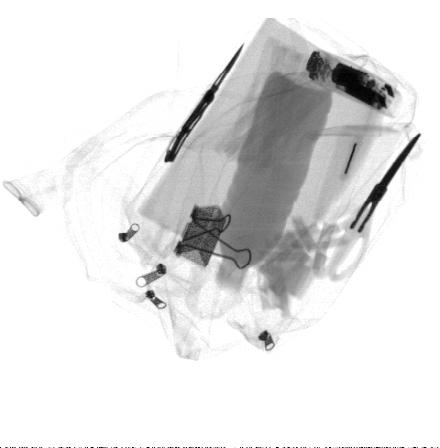Knife: (163, 42, 244, 162)
Scissors: (310, 133, 424, 281)
